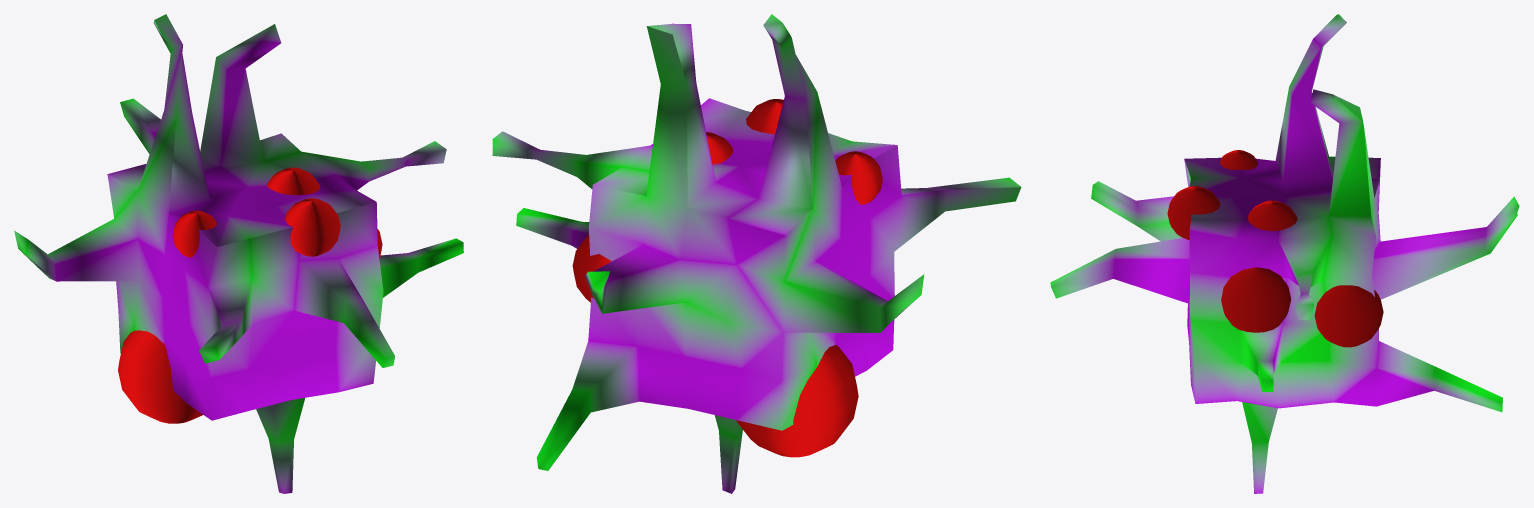
The model's file is mistake.glb.
The picture shows the model from 3 angles, left to right: view 1: azimuth 30°, elevation 25°; view 2: azimuth 150°, elevation 25°; view 3: azimuth 270°, elevation 25°; orthographic projection. The views are drawn at different scales.
Visible parts, largest first — view 1: Cube; view 2: Cube; view 3: Cube.
Boxes of the visible parts, bbox=[...] form: Cube: bbox=[14, 14, 463, 493]; Cube: bbox=[492, 14, 1021, 493]; Cube: bbox=[1050, 14, 1519, 493].
Bounding box in the file's own units: 1.1 × 1.24 × 1.19.
